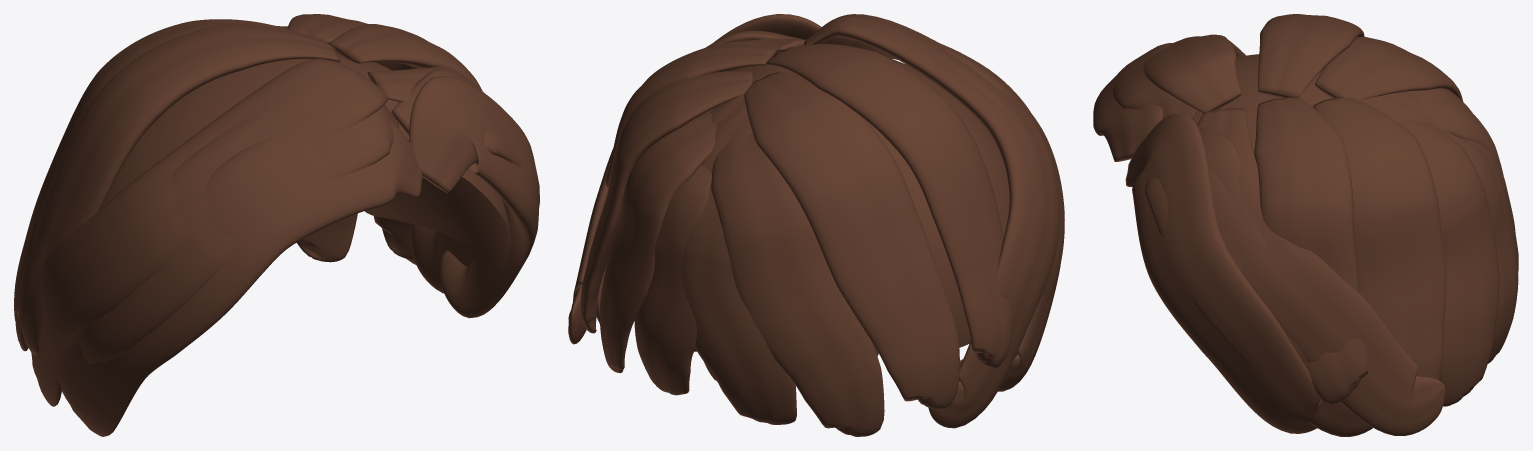
The model's file is Masculine-Masculine-flow-hair261-bb7ff5dc.glb.
3 views of the same model, side by side, from view 1: azimuth 30°, elevation 25°; view 2: azimuth 150°, elevation 25°; view 3: azimuth 270°, elevation 25° (orthographic). The views are drawn at different scales.
Visible parts, largest first — view 1: 226 hair / Hair260 / layered flow; view 2: 226 hair / Hair260 / layered flow; view 3: 226 hair / Hair260 / layered flow.
Part boxes in pixels (x1=…): 226 hair / Hair260 / layered flow: x1=14, y1=14, x2=539, y2=436; 226 hair / Hair260 / layered flow: x1=568, y1=14, x2=1064, y2=436; 226 hair / Hair260 / layered flow: x1=1093, y1=14, x2=1518, y2=436.
Bounding box in the file's own units: 0.8941 × 0.6458 × 0.7892.
